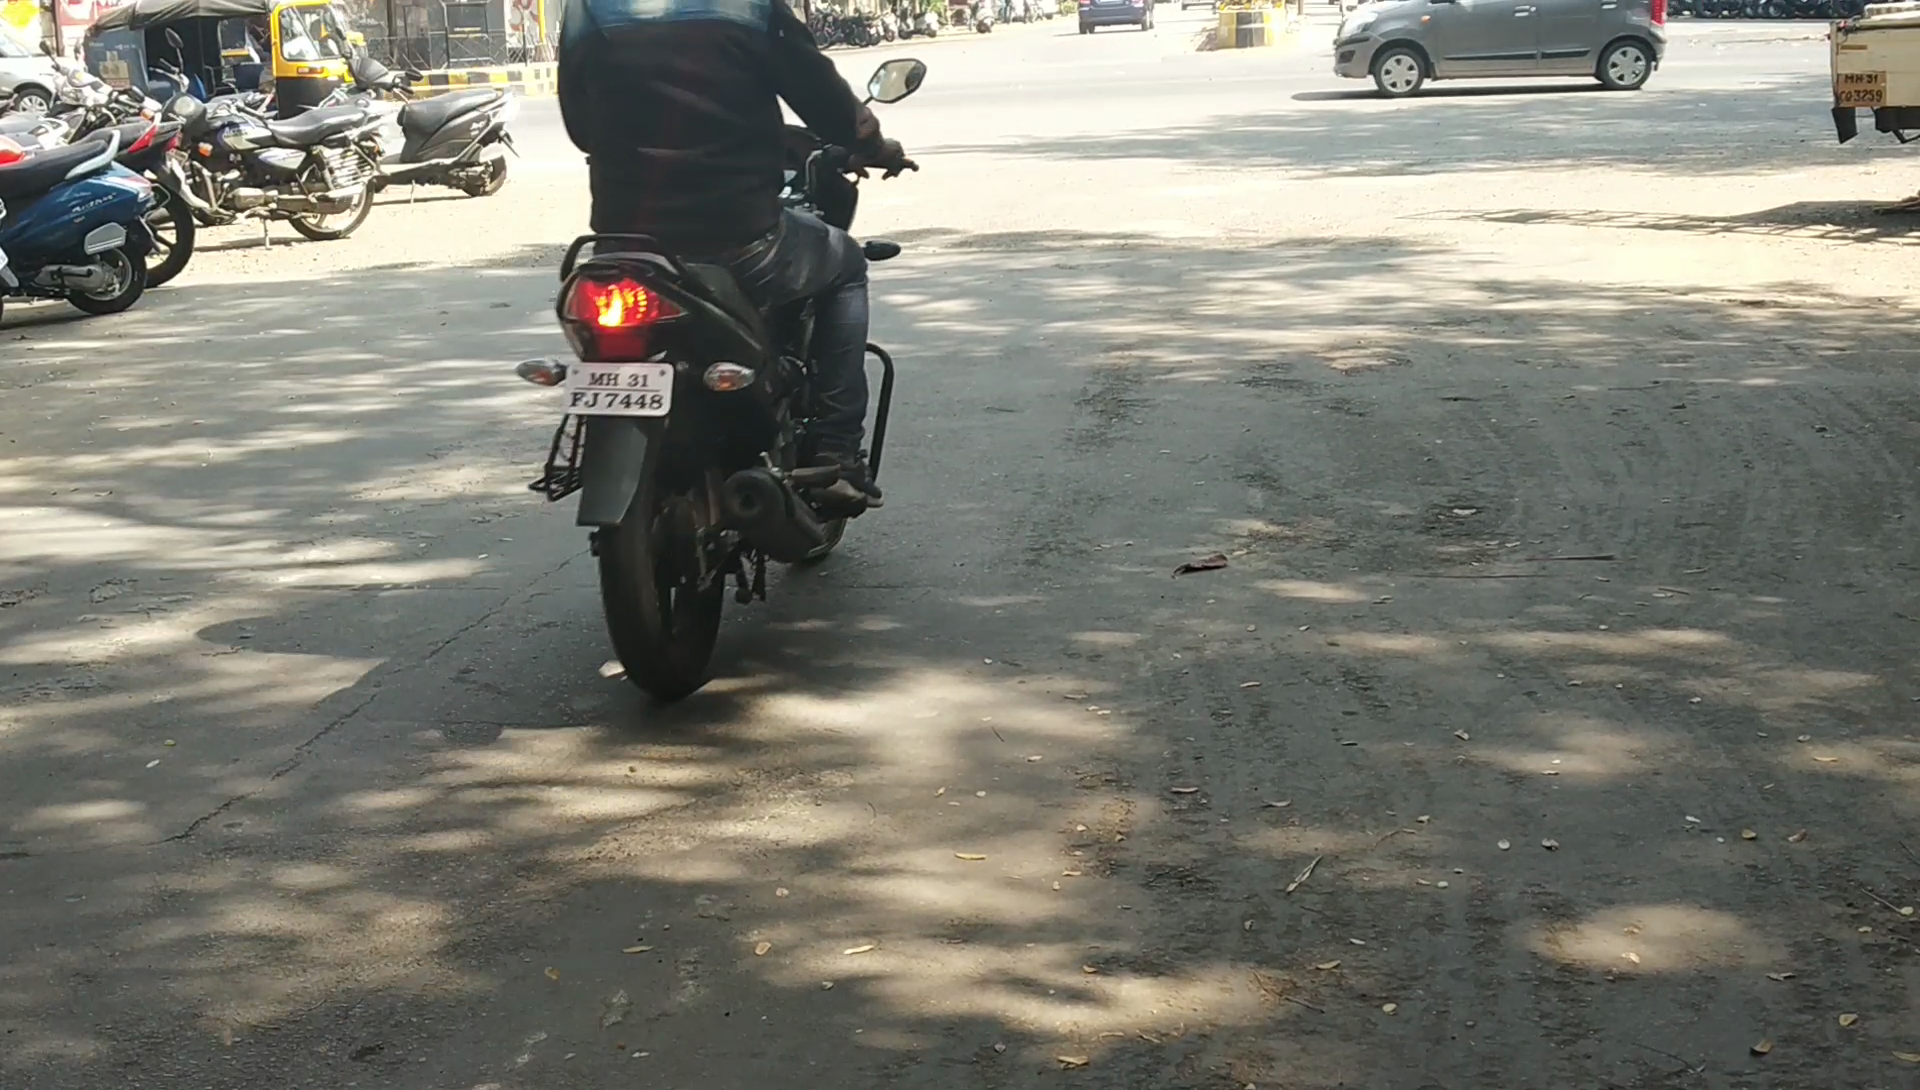car: (475, 54, 936, 719)
numplate: (559, 358, 684, 426)
